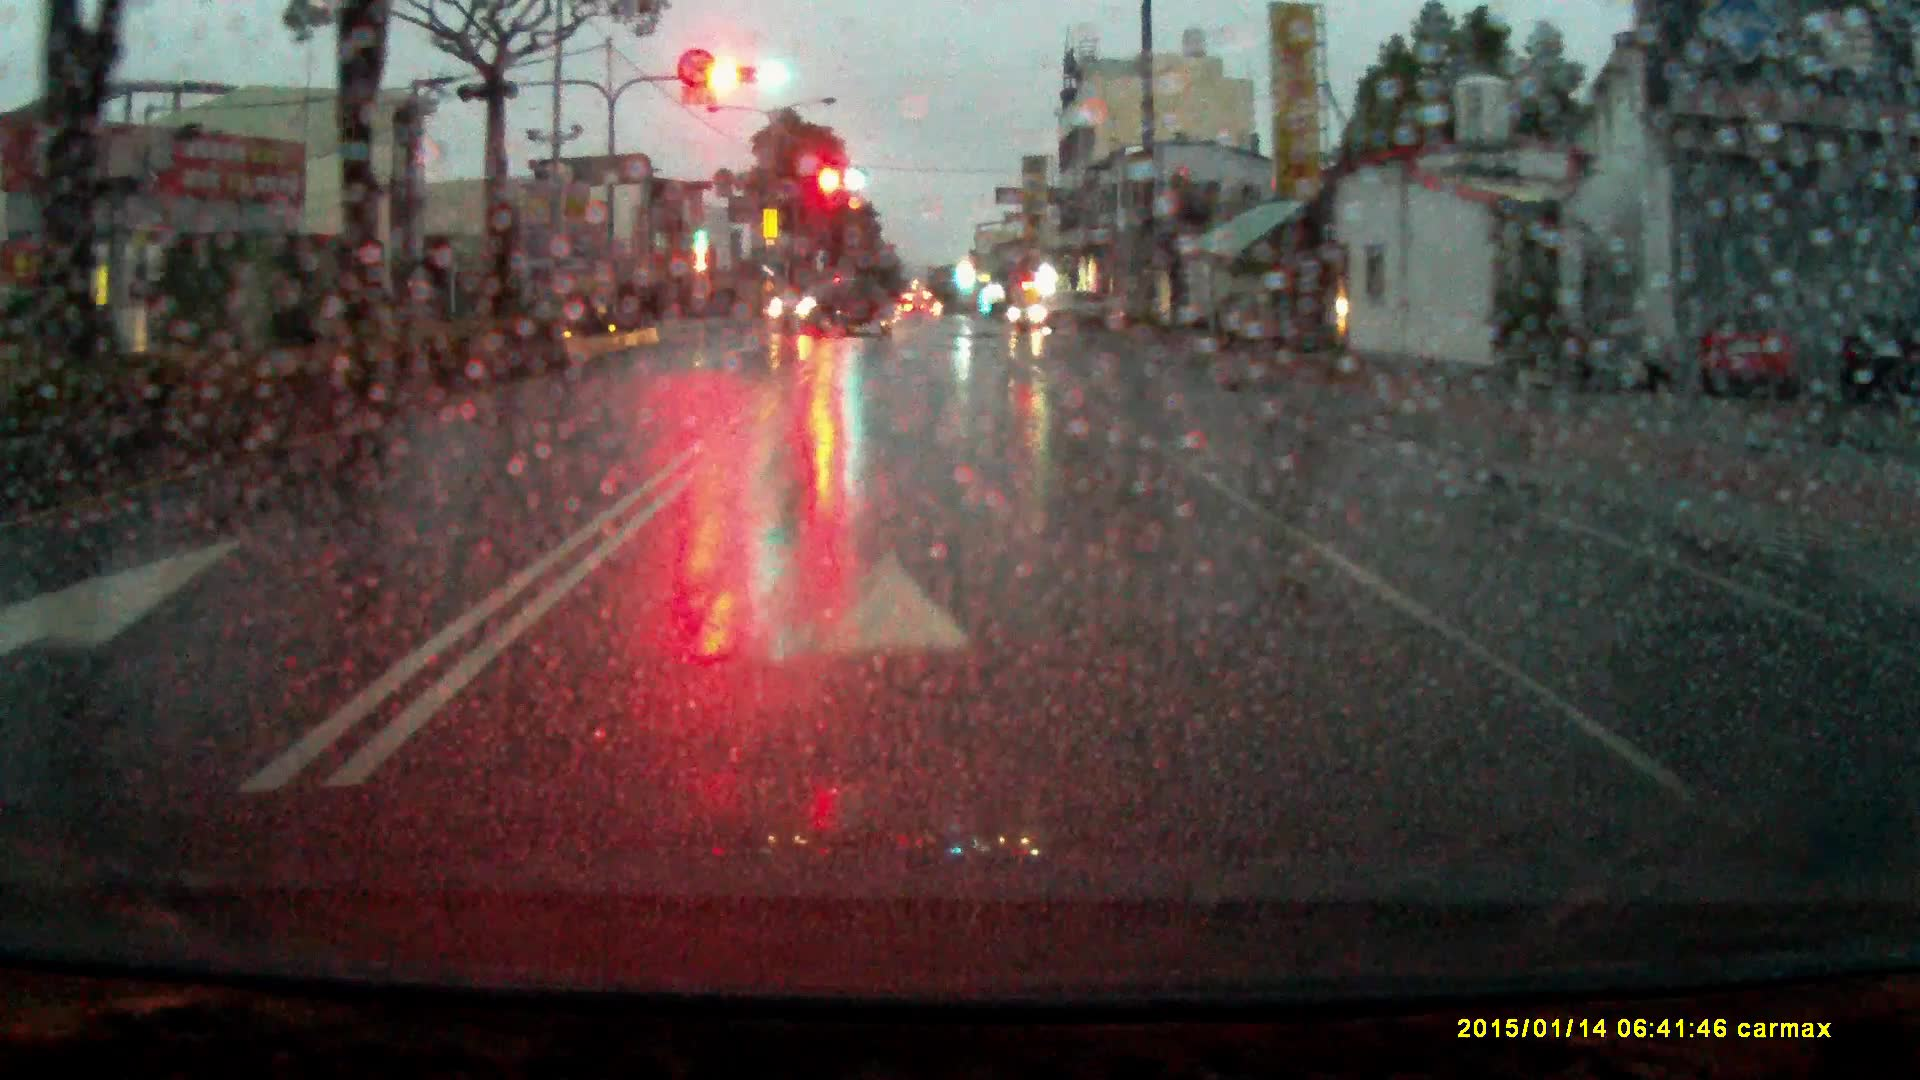vehicle: (765, 276, 905, 342), (1010, 293, 1124, 342)
